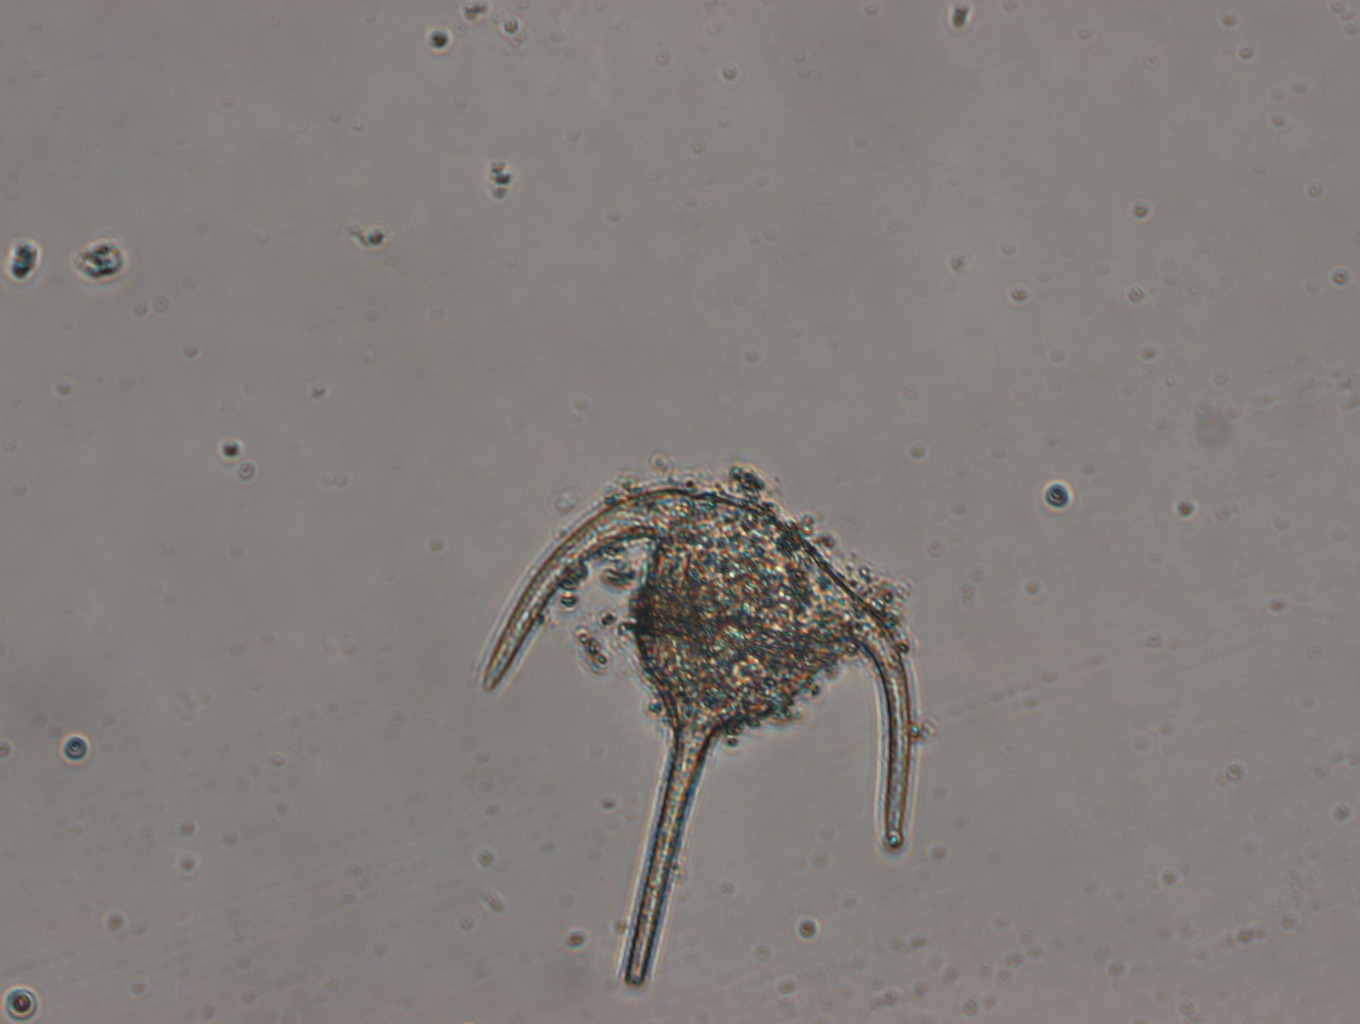ceratium tripos: (489, 482, 920, 986)
